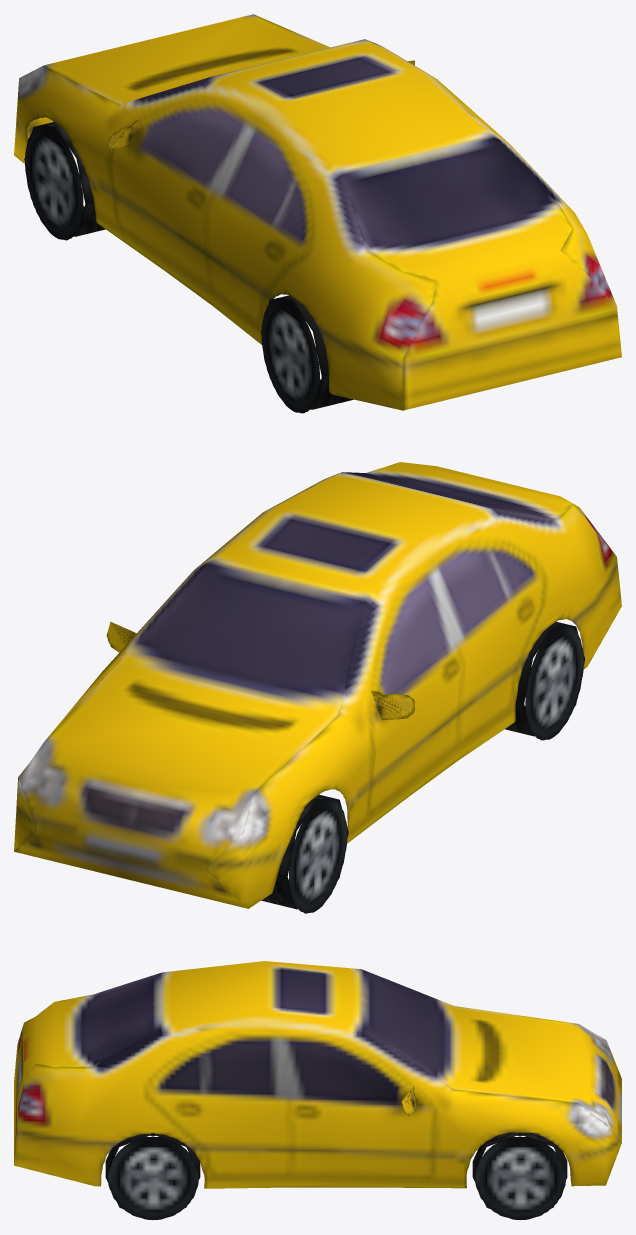
The model's file is taxi.obj.
The picture shows the model from 3 angles, top to bottom: view 1: azimuth 30°, elevation 25°; view 2: azimuth 150°, elevation 25°; view 3: azimuth 270°, elevation 25°; orthographic projection. The views are drawn at different scales.
Visible parts, largest first — view 1: taxi; view 2: taxi; view 3: taxi.
Part boxes in pixels (<box>): taxi: <box>14,14,621,413</box>; taxi: <box>14,462,621,913</box>; taxi: <box>14,961,621,1219</box>.
Size of the model in its own units: 0.1527 by 0.1113 by 0.3339.
Materials: 1 (1 with a texture image).
